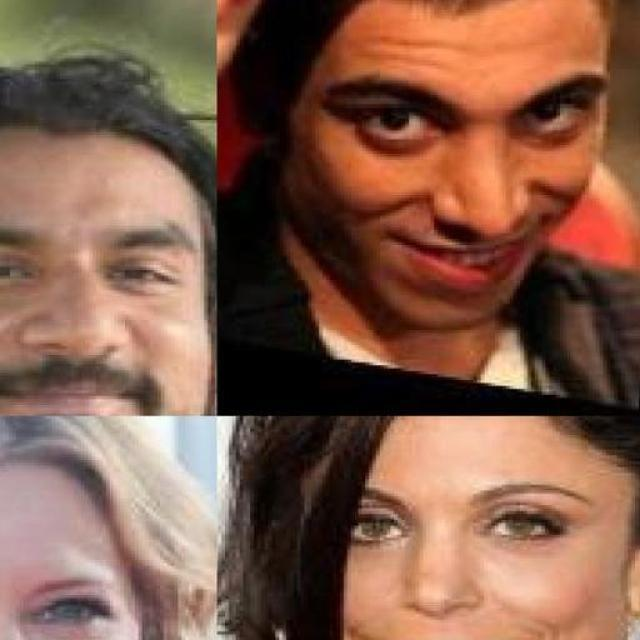bareface: (300, 0, 616, 320)
